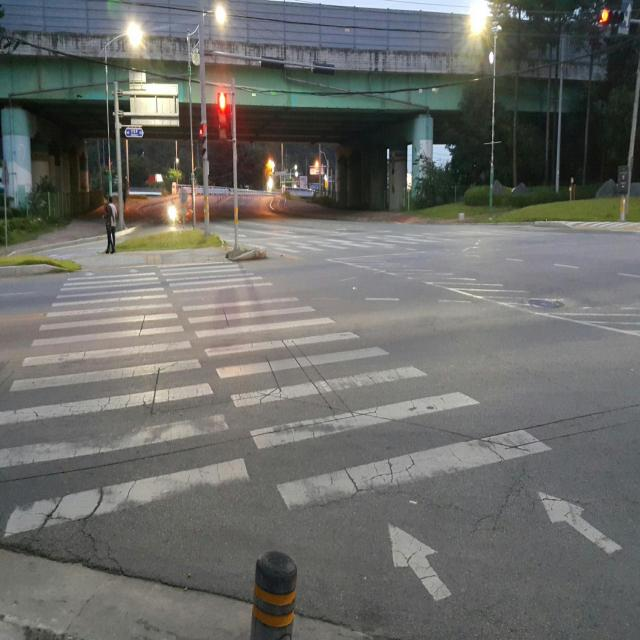빨간불: (220, 90, 228, 139)
횡단보도: (0, 261, 623, 605)
